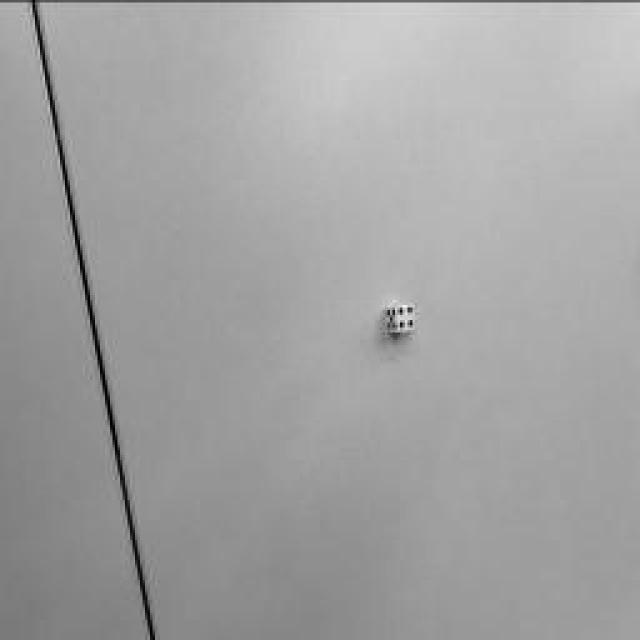dice_4: (397, 302, 415, 332)
